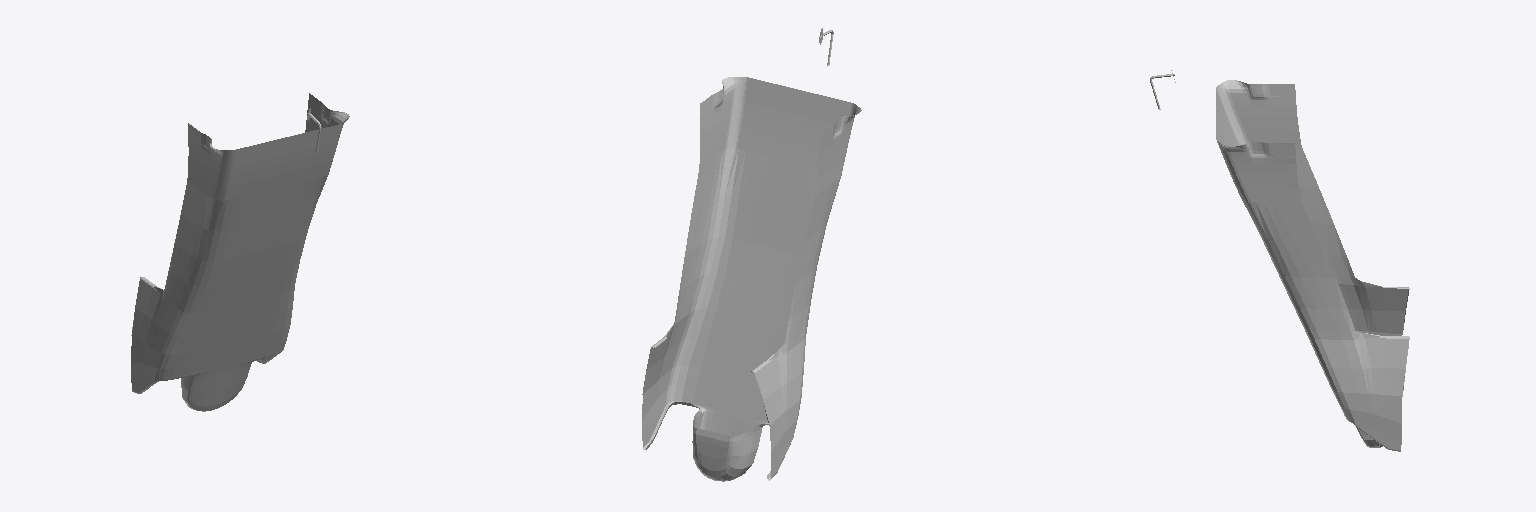
File: front.obj
3 renders of one model, left to right at view 1: azimuth 30°, elevation 25°; view 2: azimuth 150°, elevation 25°; view 3: azimuth 270°, elevation 25°, orthographic.
Parts seen in each view (by area): view 1: model_1; view 2: model_1; view 3: model_1.
Boxes of the visible parts, x1,y1,x2,y2 form: model_1: [131, 93, 349, 411]; model_1: [642, 28, 861, 481]; model_1: [1150, 70, 1409, 451].
Size of the model in its own units: 0.3667 by 0.9632 by 0.6032.